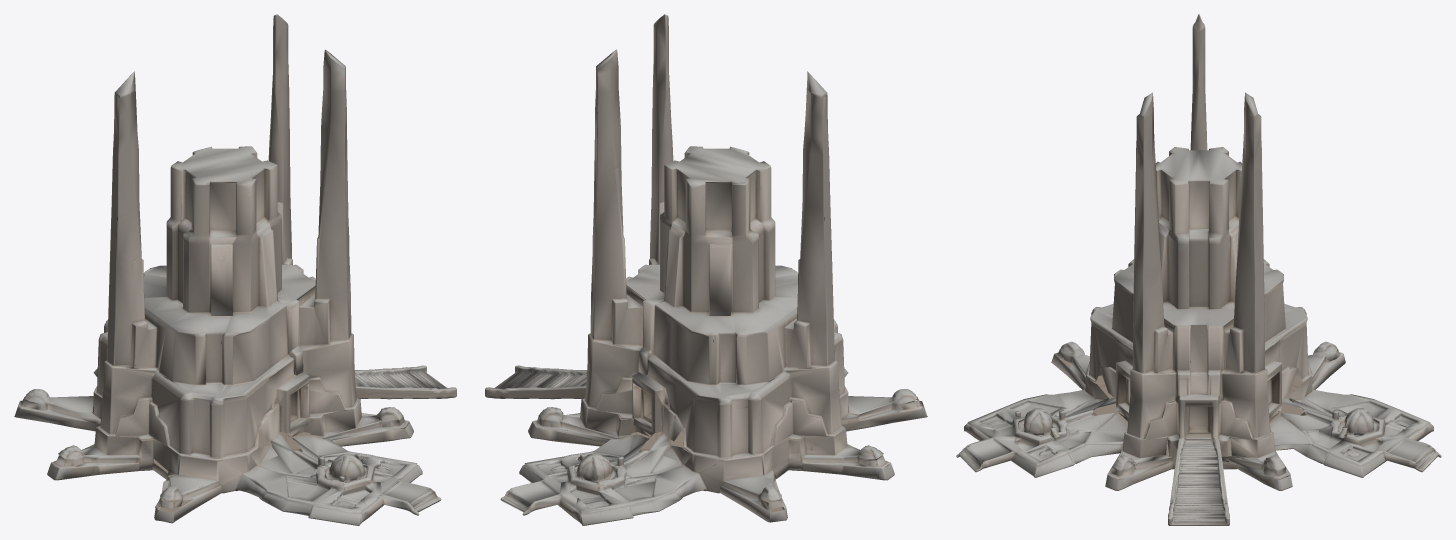
File: ARRAKEEN_PALACE_B.obj
3 renders of one model, left to right at view 1: azimuth 30°, elevation 25°; view 2: azimuth 150°, elevation 25°; view 3: azimuth 270°, elevation 25°, orthographic. The views are drawn at different scales.
Parts seen in each view (by area): view 1: tripo_node_ae702906-f825-44c8-82ab-aa623ef887af; view 2: tripo_node_ae702906-f825-44c8-82ab-aa623ef887af; view 3: tripo_node_ae702906-f825-44c8-82ab-aa623ef887af.
Boxes of the visible parts, x1,y1,x2,y2 form: tripo_node_ae702906-f825-44c8-82ab-aa623ef887af: [14, 14, 456, 525]; tripo_node_ae702906-f825-44c8-82ab-aa623ef887af: [485, 14, 927, 525]; tripo_node_ae702906-f825-44c8-82ab-aa623ef887af: [956, 14, 1441, 525].
Bounding box in the file's own units: 0.8656 × 0.8253 × 0.9785.
Materials: 1 (1 with a texture image).
